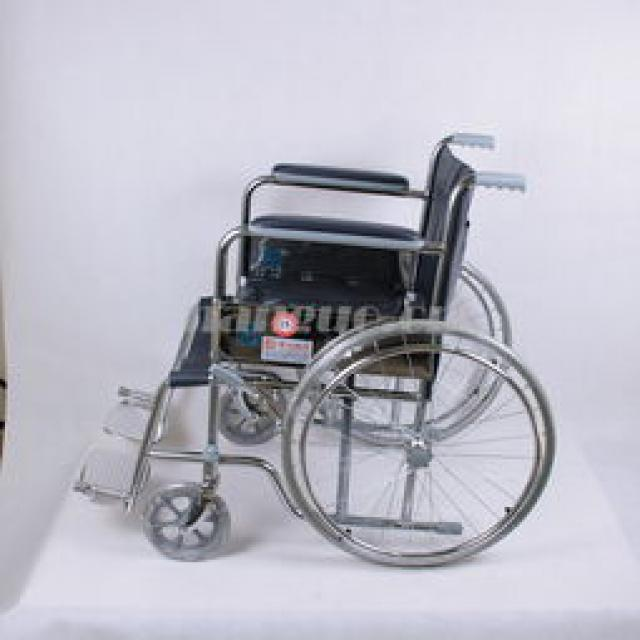wheelchairs: (77, 130, 559, 568)
